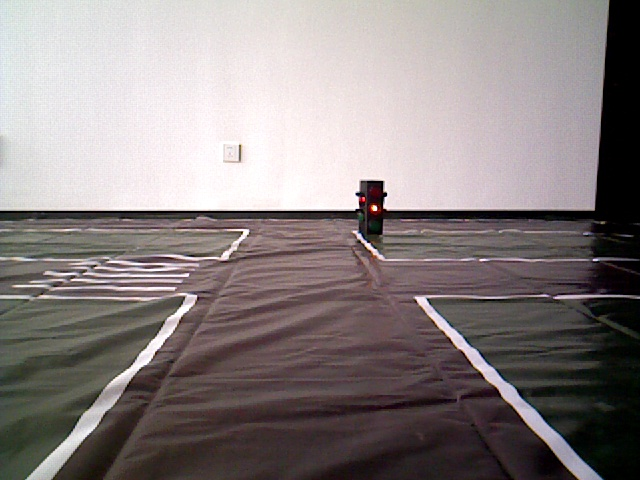yellow: (359, 182, 386, 232)
